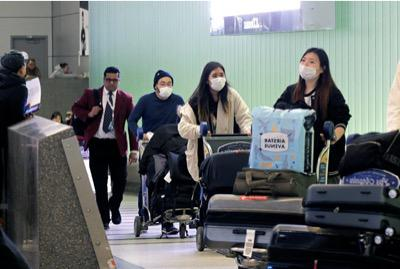with_mask: (298, 55, 320, 80), (208, 71, 226, 90), (157, 79, 172, 98)
without_mask: (104, 75, 118, 90), (26, 61, 35, 70)
